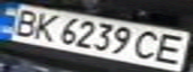2: (72, 18, 96, 51)
3: (90, 20, 115, 54)
6: (54, 16, 81, 47)
9: (109, 25, 136, 57)
B: (3, 7, 42, 37)
C: (130, 28, 166, 62)
E: (151, 30, 193, 66)
K: (27, 11, 63, 42)
